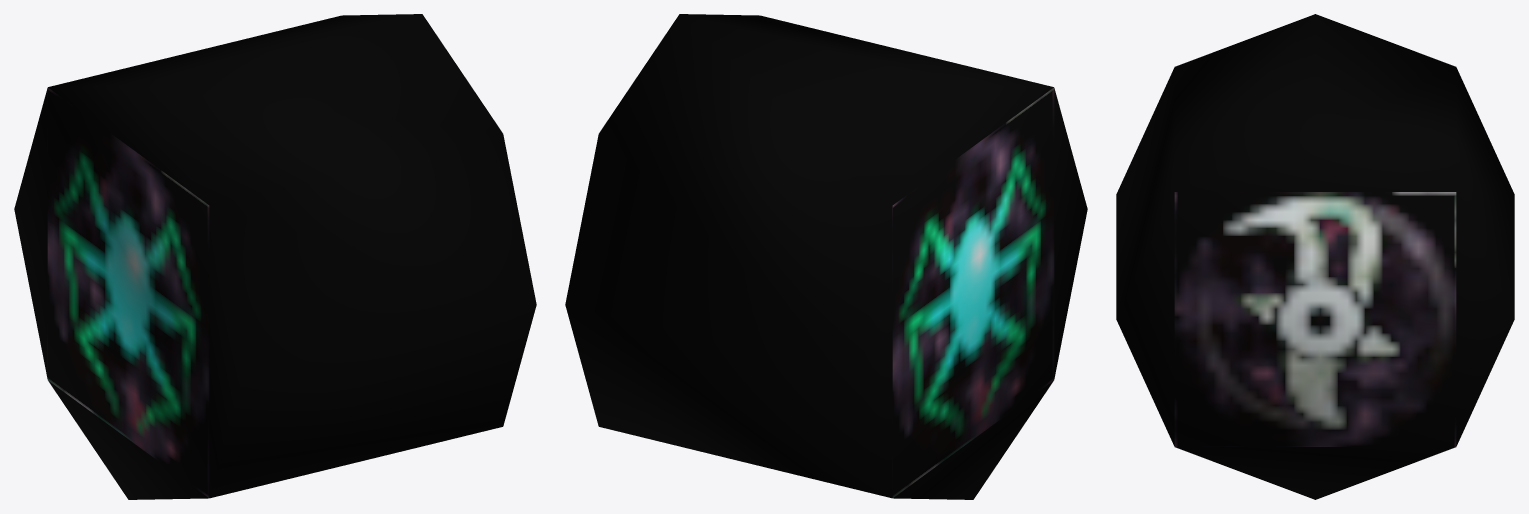
File: WheelRearR.obj
3 renders of one model, left to right at view 1: azimuth 30°, elevation 25°; view 2: azimuth 150°, elevation 25°; view 3: azimuth 270°, elevation 25°, orthographic. The views are drawn at different scales.
Visible parts, largest first — view 1: WheelRearR; view 2: WheelRearR; view 3: WheelRearR.
Boxes of the visible parts, <box> form: WheelRearR: <box>14,14,536,499</box>; WheelRearR: <box>565,14,1087,499</box>; WheelRearR: <box>1116,14,1514,499</box>.
Bounding box in the file's own units: 0.9162 × 1.23 × 1.23.
Materials: 2 (1 with a texture image).
